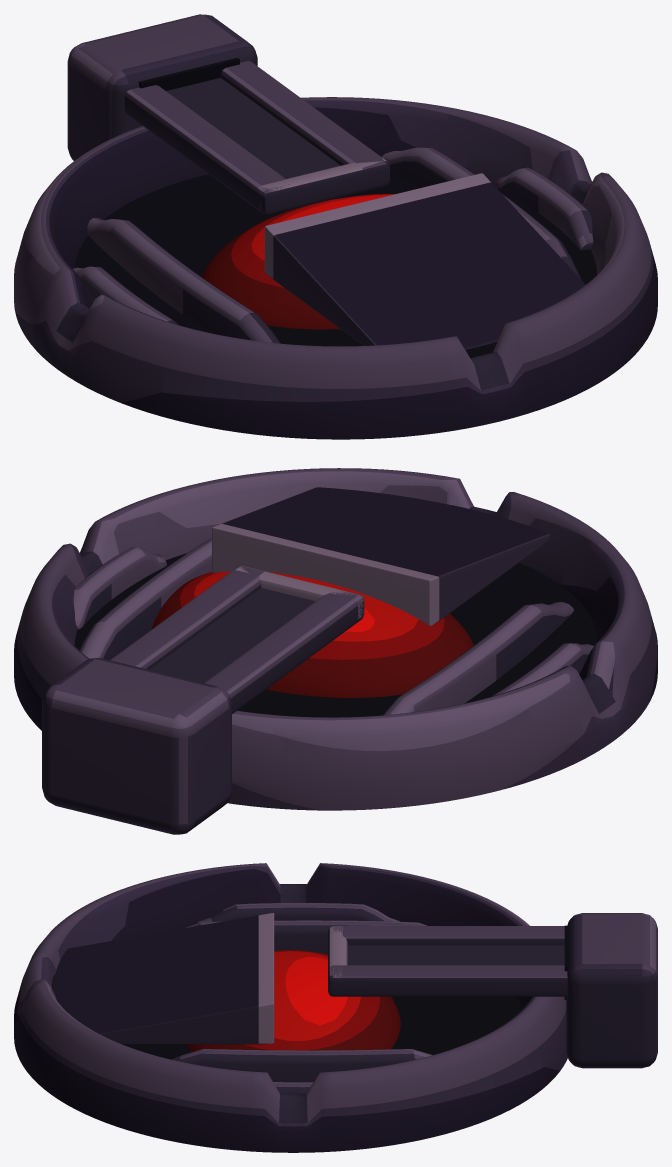
Rendered from eye_hatch.glb.
The picture shows the model from 3 angles, top to bottom: view 1: azimuth 30°, elevation 25°; view 2: azimuth 150°, elevation 25°; view 3: azimuth 270°, elevation 25°; orthographic projection. The views are drawn at different scales.
Parts seen in each view (by area): view 1: eye_hatch; view 2: eye_hatch; view 3: eye_hatch.
Part boxes in pixels (box(x1,y1,x2,y2)): eye_hatch: box(14, 14, 657, 439); eye_hatch: box(14, 468, 657, 834); eye_hatch: box(14, 863, 657, 1152).
Bounding box in the file's own units: 17.4 × 3.6 × 20.4.
